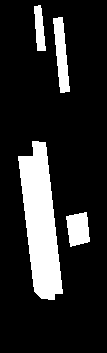parkingspot: (18, 156, 54, 299), (32, 141, 62, 293), (53, 17, 69, 92), (66, 212, 89, 246), (34, 5, 45, 50)
